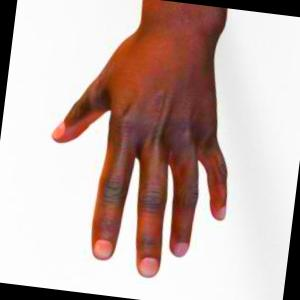paper: (54, 0, 227, 277)
